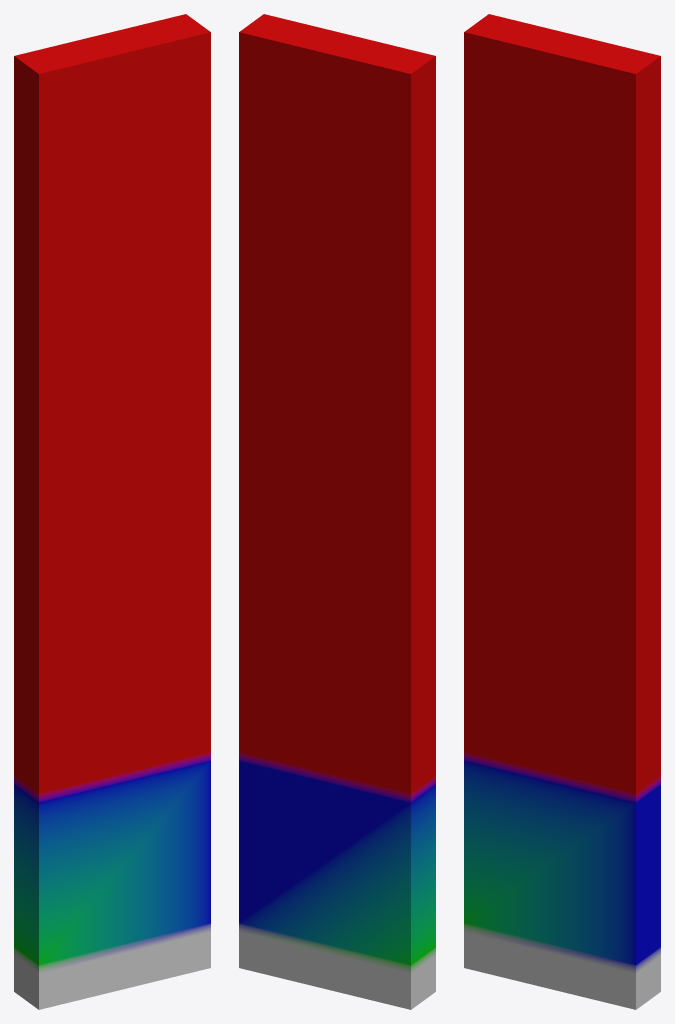
Rendered from SM_IntWall1m.fbx.
3 views of the same model, side by side, from view 1: azimuth 30°, elevation 25°; view 2: azimuth 150°, elevation 25°; view 3: azimuth 330°, elevation 25° (orthographic).
Parts seen in each view (by area): view 1: SM_IntWall1m; view 2: SM_IntWall1m; view 3: SM_IntWall1m.
Part boxes in pixels (x1,y1,x2,y2): SM_IntWall1m: (14,14,210,1009); SM_IntWall1m: (239,14,435,1009); SM_IntWall1m: (464,14,660,1009).
Size of the model in its own units: 100 by 520 by 25.
